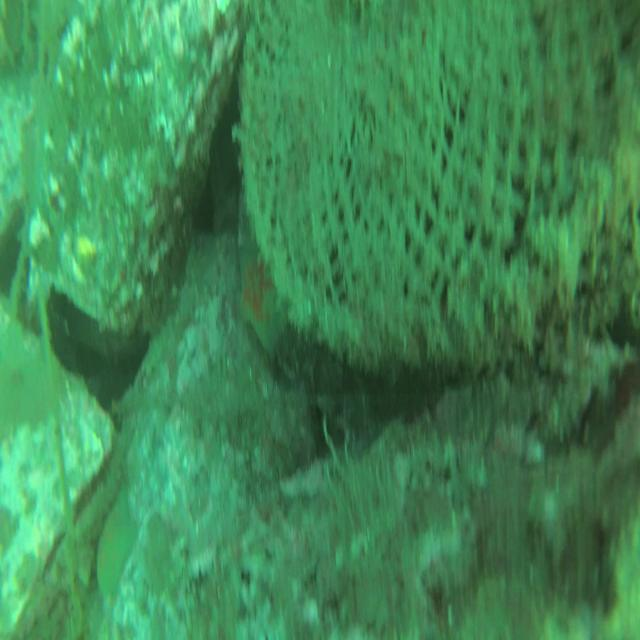starfish: (236, 236, 294, 367), (93, 483, 142, 615)
